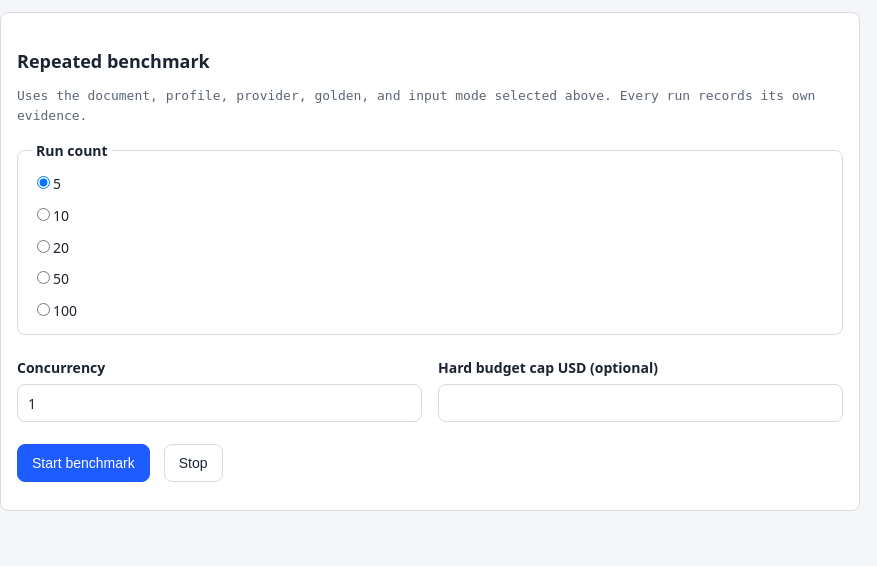
Test: RepeatedBenchmarkSection › requires a selection before starting
Click the button "Start benchmark": {"x": 83, "y": 463} [17,444,150,482]
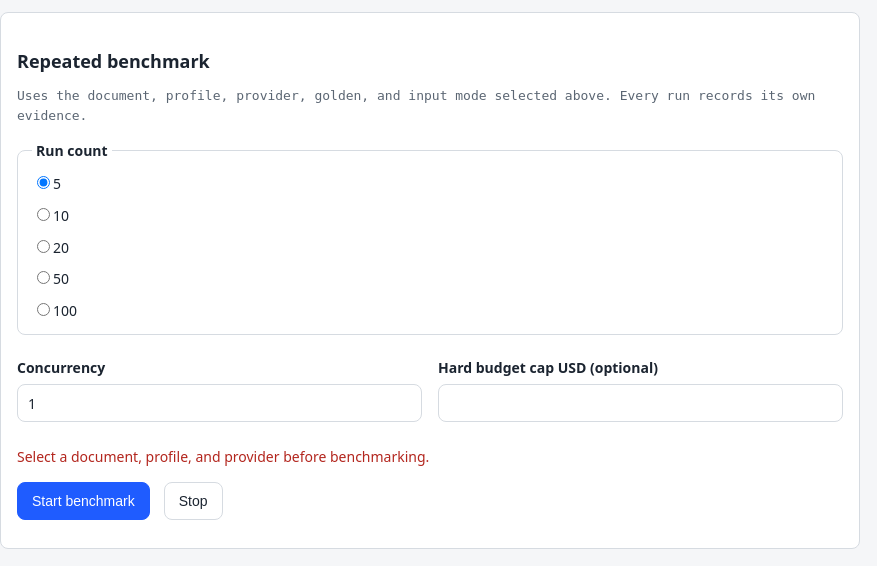
Expected: the text "Select a document, profile, and provider before benchmarking." is shown, [17,447,429,466]
